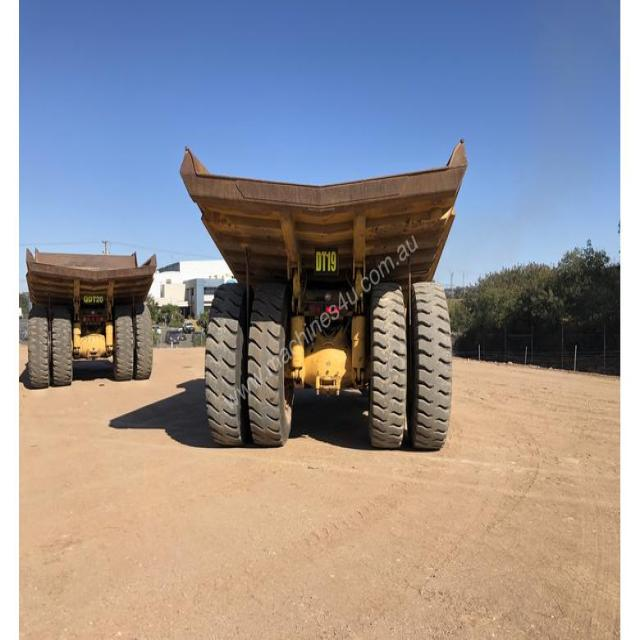dump_truck: (180, 135, 478, 465), (25, 230, 156, 386)
